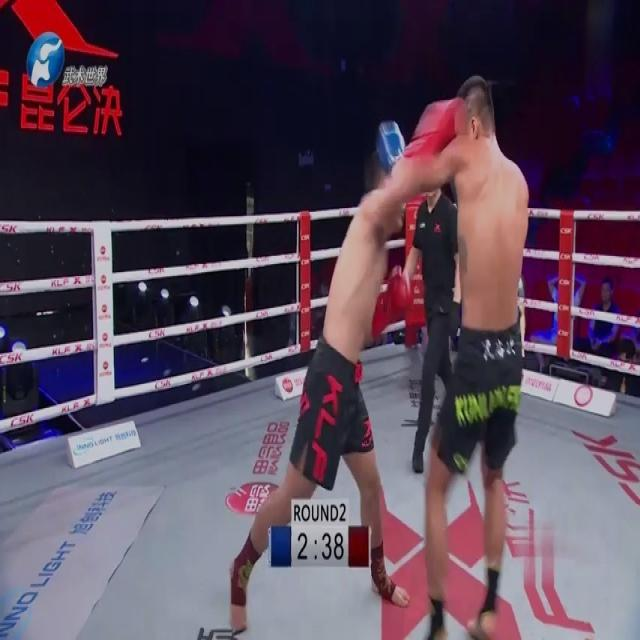fight: (229, 65, 543, 638)
